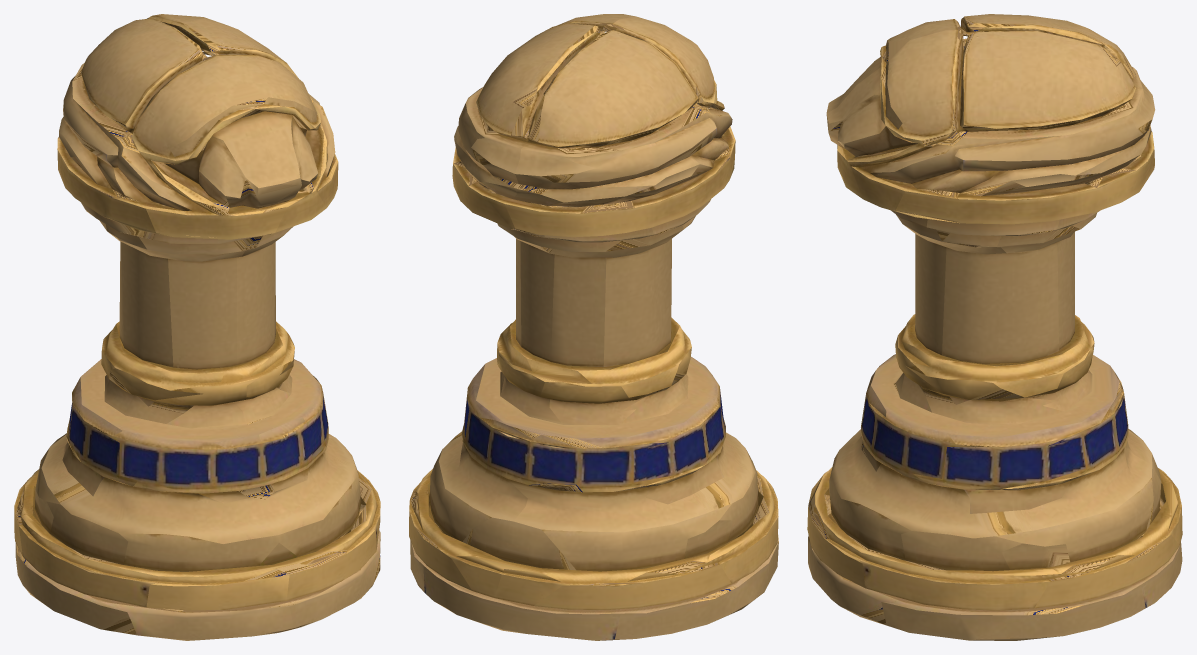
3 views of the same model, side by side, from view 1: azimuth 30°, elevation 25°; view 2: azimuth 150°, elevation 25°; view 3: azimuth 270°, elevation 25° (orthographic). The views are drawn at different scales.
Visible parts, largest first — view 1: world; view 2: world; view 3: world.
Boxes of the visible parts, box(x1,y1,x2,y2) form: world: box(14, 14, 380, 640); world: box(409, 14, 778, 640); world: box(807, 14, 1182, 640).
Size of the model in its own units: 0.6339 by 1 by 0.6348.
1 material, 1 textured.
